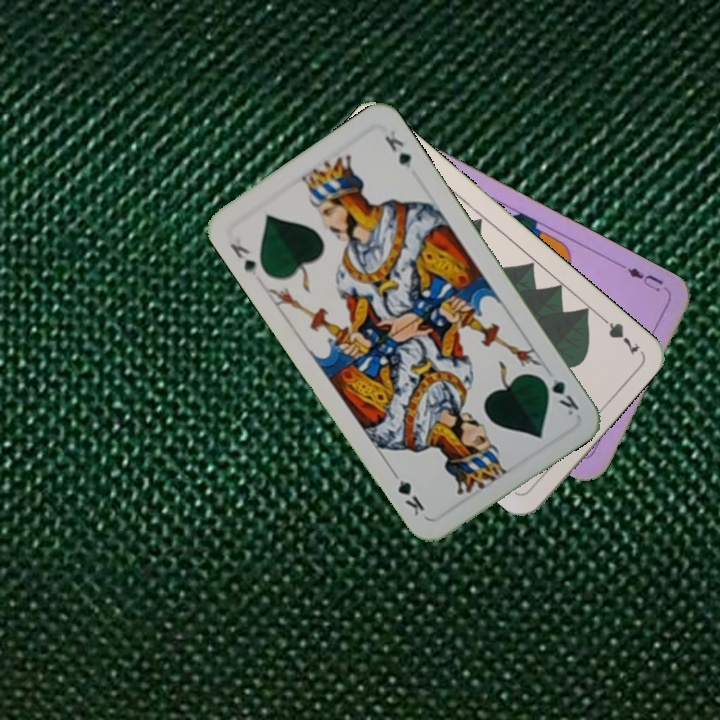EU: (618, 261, 666, 295)
G7: (594, 310, 643, 358)
GK: (536, 371, 582, 418), (225, 239, 260, 279)
